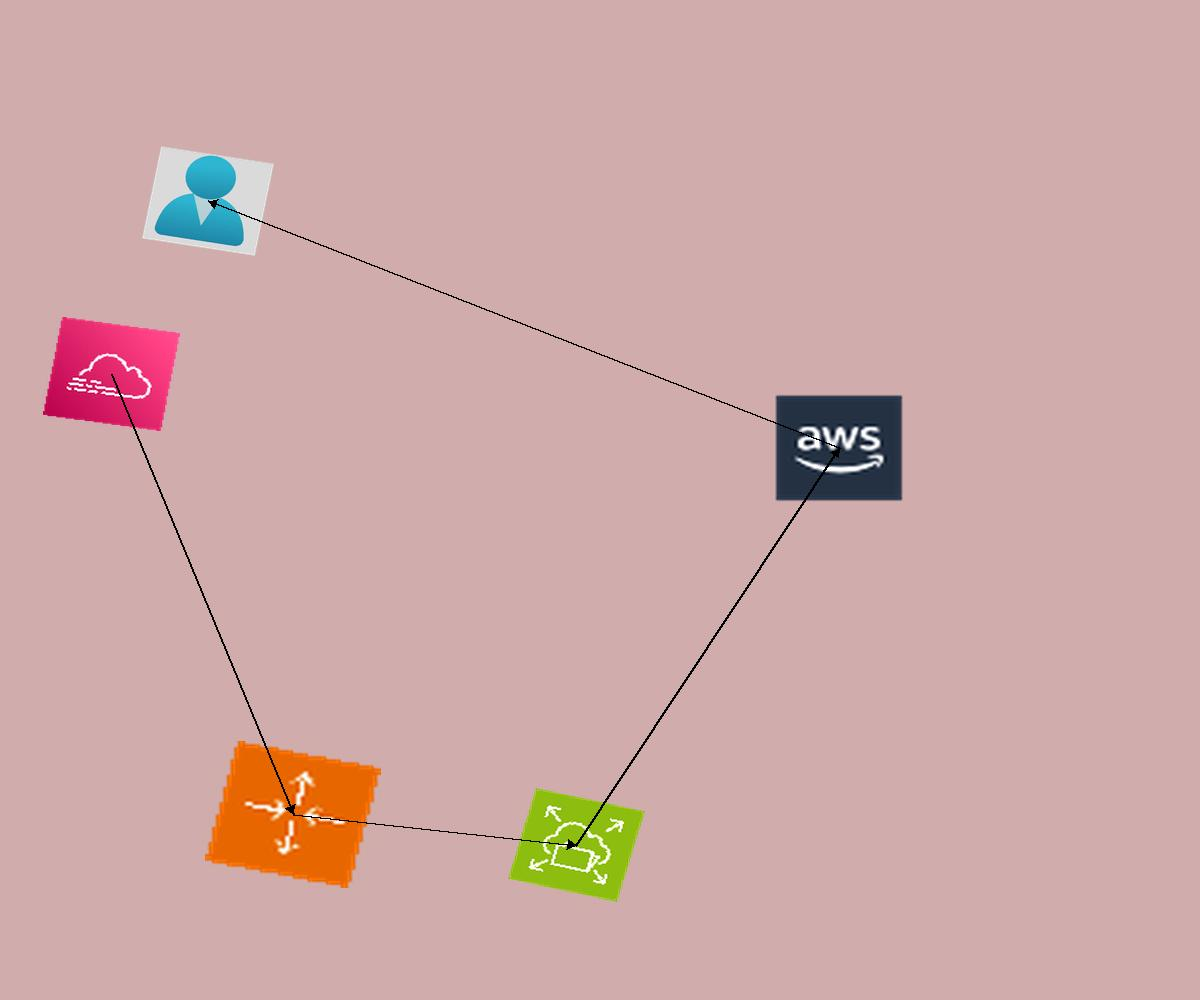AWS-Cloud-logo: (773, 393, 905, 503)
AWS-CloudTrail: (43, 317, 180, 431)
AWS-EFS: (508, 788, 645, 902)
AWS-Scaling-group: (205, 741, 381, 888)
Azure_users: (142, 146, 274, 256)
